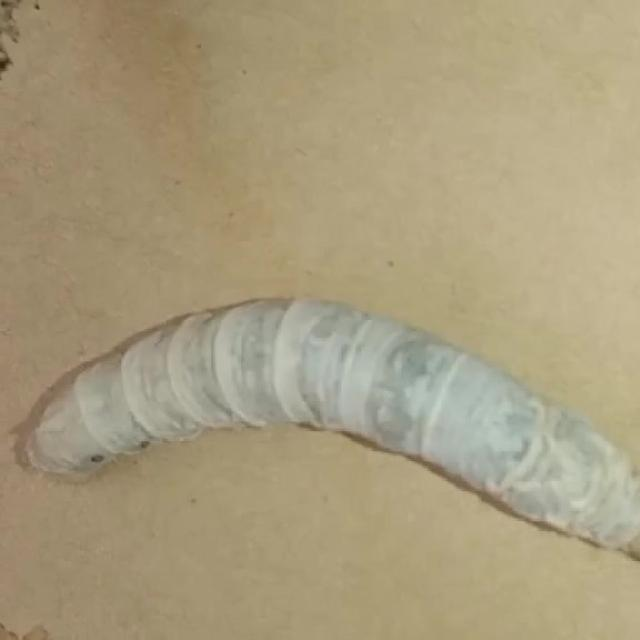Grasserie: (23, 253, 636, 595)
